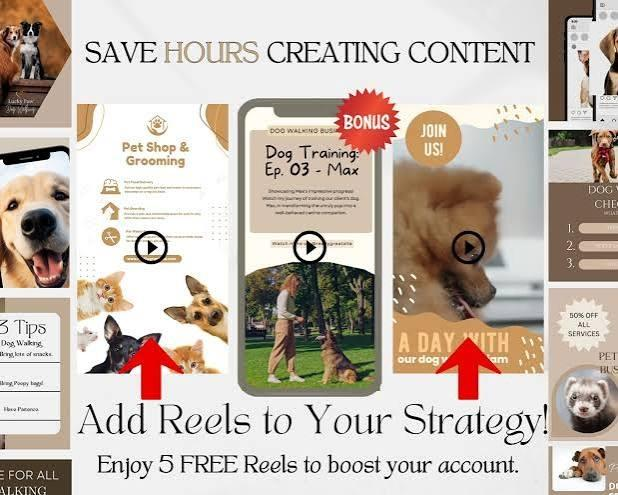adult_dog: (392, 158, 503, 323), (1, 171, 72, 289), (84, 315, 159, 374), (165, 275, 229, 338), (319, 330, 364, 386), (160, 338, 222, 375), (15, 20, 49, 82), (588, 128, 618, 183), (561, 450, 607, 482), (1, 23, 22, 87), (599, 27, 618, 96)
non-dog: (268, 272, 306, 384), (558, 372, 617, 434), (75, 270, 135, 321)
